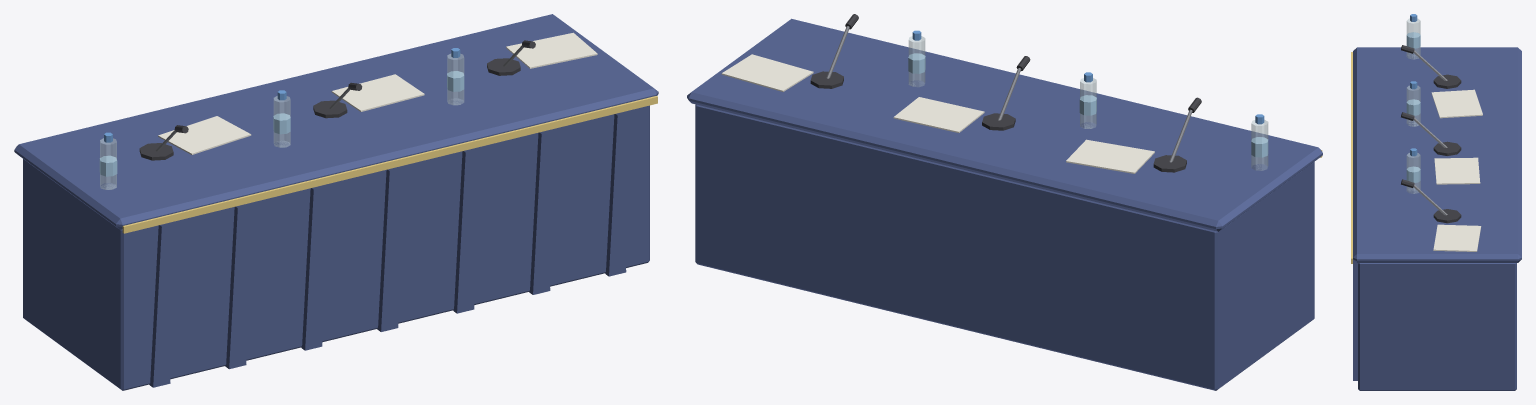
Rendered from prop_moderator_desk_01.glb.
3 renders of one model, left to right at view 1: azimuth 30°, elevation 25°; view 2: azimuth 150°, elevation 25°; view 3: azimuth 270°, elevation 25°, orthographic. The views are drawn at different scales.
Visible parts, largest first — view 1: prop_moderator_desk_01_body; view 2: prop_moderator_desk_01_body; view 3: prop_moderator_desk_01_body.
Part boxes in pixels (x1,y1,x2,y2): prop_moderator_desk_01_body: [14, 14, 658, 390]; prop_moderator_desk_01_body: [687, 14, 1322, 390]; prop_moderator_desk_01_body: [1351, 14, 1521, 390].
Bounding box in the file's own units: 2.5 × 1 × 0.86.
